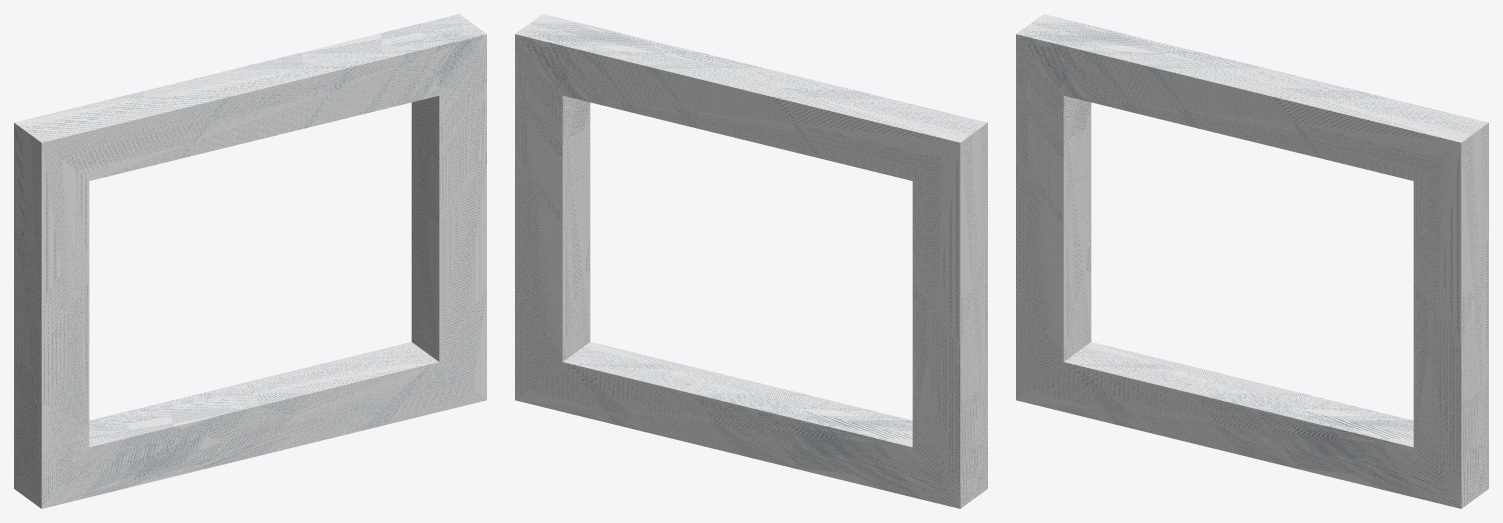
Rendered from cptB.fbx.
3 views of the same model, side by side, from view 1: azimuth 30°, elevation 25°; view 2: azimuth 150°, elevation 25°; view 3: azimuth 330°, elevation 25° (orthographic).
Visible parts, largest first — view 1: Model; view 2: Model; view 3: Model.
Part boxes in pixels (box(x1,y1,x2,y2)): Model: box(14, 14, 486, 508); Model: box(515, 14, 987, 508); Model: box(1016, 14, 1488, 508).
Bounding box in the file's own units: 1.4 × 1.1 × 0.15.
